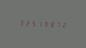eight: (47, 20, 52, 28)
five: (29, 19, 34, 27)
nine: (41, 19, 46, 28)
one: (35, 19, 40, 27)
seven: (53, 20, 58, 28)
three: (17, 18, 22, 26)
two: (23, 18, 28, 27), (59, 20, 64, 29)
